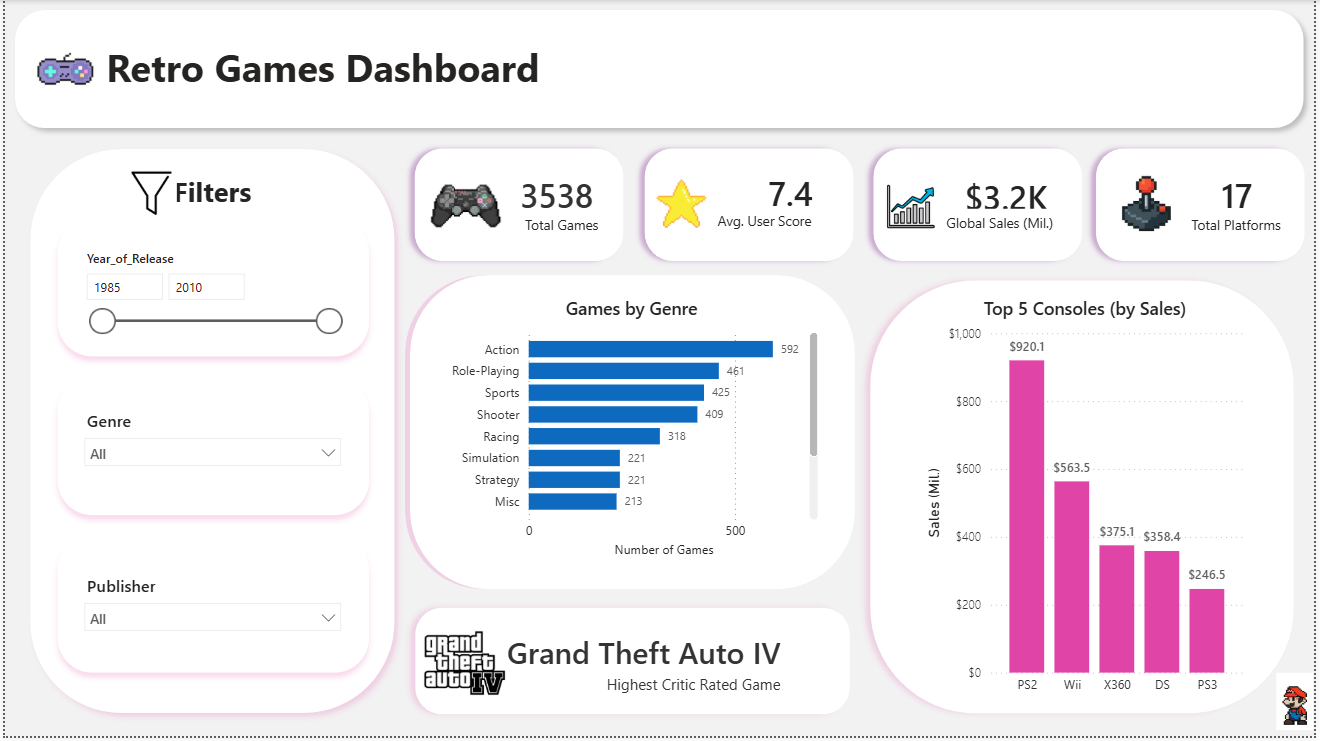

This screenshot's page, from the dashboard's own definition file:
{"tool":"powerbi","page":{"name":"Exec Dashboard","canvas":[1280,720],"ordinal":0},"visuals":[{"type":"group","id":"g1","title":"Header","box":[0,0,1280,135.1],"z":0},{"type":"shape","box":[0,0,1280,135.1],"z":0,"group":"g1"},{"type":"shape","box":[14.5,136.3,376.4,571.9],"z":0,"group":"g12"},{"type":"group","id":"g2","title":"Games","box":[390.9,136.3,223.2,129.1],"z":0,"group":"g6"},{"type":"shape","box":[390.9,136.3,223.2,129.1],"z":0,"group":"g2"},{"type":"group","id":"g3","title":"User Score","box":[615.3,136.3,223.2,129.1],"z":0,"group":"g5"},{"type":"shape","box":[615.3,136.3,223.2,129.1],"z":0,"group":"g3"},{"type":"shape","box":[839.7,136.3,223.2,129.1],"z":0,"group":"g7"},{"type":"group","id":"g4","title":"Games","box":[1056.9,136.3,223.2,129.1],"z":0,"group":"g9"},{"type":"shape","box":[1056.9,136.3,223.2,129.1],"z":0,"group":"g4"},{"type":"shape","box":[390.9,264.2,445.2,317.3],"z":0,"group":"g8"},{"type":"shape","box":[836.1,264.2,434.3,444],"z":0,"group":"g10"},{"type":"shape","box":[390.9,583.9,445.2,124.3],"z":0,"group":"g11"},{"type":"image","box":[14.5,26.5,89.3,80.8],"z":1000,"group":"g1"},{"type":"group","id":"g5","title":"KPIs","box":[390.9,136.3,889.1,130.3],"z":1000},{"type":"group","id":"g6","title":"Game","box":[390.9,136.3,223.2,129.1],"z":1000,"group":"g5"},{"type":"cardVisual","fields":{"Data":["Measure Table.Average User Score"]},"box":[714.2,146,106.2,84.5],"z":1000,"group":"g3"},{"type":"cardVisual","fields":{"Data":["Measure Table.Total Number of Games"]},"box":[472.5,156.9,131.5,66.4],"z":1000,"group":"g2"},{"type":"cardVisual","fields":{"Data":["Measure Table.Number of Platforms"]},"box":[1138.5,156.9,131.5,66.4],"z":1000,"group":"g4"},{"type":"cardVisual","fields":{"Data":["Measure Table.Total Global Sales"]},"box":[909.4,163.9,139.9,54.3],"z":1000,"group":"g7"},{"type":"shape","box":[41,205.1,324.5,154.4],"z":1000,"group":"g12"},{"type":"textbox","box":[503.1,206.3,94.1,29],"z":1000,"group":"g6"},{"type":"textbox","box":[1155.2,206.6,106.2,33.8],"z":1000,"group":"g9"},{"type":"barChart","title":"Games by Genre","fields":{"Category":["Dim_Genre.Genre"],"Y":["Measure Table.Total Number of Games"]},"box":[425.4,289.3,374.8,260.6],"z":1000,"group":"g8"},{"type":"columnChart","title":"Top 5 Consoles (by Sales)","fields":{"Y":["Measure Table.Total Global Sales"],"Category":["Dim_Platform.Platform"]},"box":[895.8,290.3,320.5,398.4],"z":1000,"group":"g10"},{"type":"cardVisual","fields":{"Data":["Measure Table.Highest Critic Rated Game"]},"box":[425.9,598.4,361.9,98.9],"z":1000,"group":"g11"},{"type":"textbox","box":[94.1,35,442.8,72.4],"z":2000,"group":"g1"},{"type":"group","id":"g7","title":"Sales","box":[839.7,136.3,223.2,129.1],"z":2000,"group":"g5"},{"type":"image","box":[407.8,168.9,84.5,65.1],"z":2000,"group":"g2"},{"type":"image","box":[1073.8,168.9,84.5,65.1],"z":2000,"group":"g4"},{"type":"textbox","box":[691.3,202.7,103.8,31.4],"z":2000,"group":"g3"},{"type":"textbox","box":[915.5,205,127.9,31.4],"z":2000,"group":"g7"},{"type":"group","id":"g8","title":"Genre visual","box":[390.9,264.2,445.2,317.3],"z":2000},{"type":"shape","box":[41,359.5,324.5,154.4],"z":2000,"group":"g12"},{"type":"image","box":[407.8,610.4,82,74.8],"z":2000,"group":"g11"},{"type":"group","id":"g9","title":"Game","box":[1056.9,136.3,223.2,129.1],"z":3000,"group":"g5"},{"type":"image","box":[856.4,163.2,59.1,86.9],"z":3000,"group":"g7"},{"type":"image","box":[629.8,167.7,61.5,62.7],"z":3000,"group":"g3"},{"type":"group","id":"g10","title":"Top 5 consoles","box":[836.1,264.2,434.3,444],"z":3000},{"type":"shape","box":[41,513.9,324.5,154.4],"z":3000,"group":"g12"},{"type":"slicer","fields":{"Values":["Dim_Genre.Genre"]},"box":[67.6,395.7,271.4,82],"z":4000,"group":"g12"},{"type":"group","id":"g11","title":"Highest critic","box":[390.9,583.9,445.2,124.3],"z":4000},{"type":"group","id":"g12","title":"Slicer","box":[14.5,136.3,376.4,571.9],"z":5000},{"type":"slicer","fields":{"Values":["Dim_Publisher.Publisher"]},"box":[67.6,557.3,271.4,82],"z":5000,"group":"g12"},{"type":"image","box":[1243.8,653.9,36.2,63.9],"z":5001},{"type":"slicer","fields":{"Values":["Dim_Year.Year_of_Release"]},"box":[67.6,240.1,271.4,95.3],"z":6000,"group":"g12"},{"type":"textbox","box":[153.2,164,100.1,45.8],"z":7000,"group":"g12"},{"type":"image","box":[113.4,162.8,59.1,49.5],"z":8000,"group":"g12"}]}

Visuals, with their boxes in screenshot pixels (x1, y1, x2, y2), scaled from the page's 1280x720 canvas onto the 1320x741 screenshot:
"Header" group: x1=0 y1=0 x2=1319 y2=139
shape: x1=0 y1=0 x2=1319 y2=139
shape: x1=15 y1=140 x2=403 y2=729
"Games" group: x1=403 y1=140 x2=633 y2=273
shape: x1=403 y1=140 x2=633 y2=273
"User Score" group: x1=635 y1=140 x2=865 y2=273
shape: x1=635 y1=140 x2=865 y2=273
shape: x1=866 y1=140 x2=1096 y2=273
"Games" group: x1=1090 y1=140 x2=1319 y2=273
shape: x1=1090 y1=140 x2=1319 y2=273
shape: x1=403 y1=272 x2=862 y2=598
shape: x1=862 y1=272 x2=1310 y2=729
shape: x1=403 y1=601 x2=862 y2=729
image: x1=15 y1=27 x2=107 y2=110
"KPIs" group: x1=403 y1=140 x2=1319 y2=274
"Game" group: x1=403 y1=140 x2=633 y2=273
cardVisual - Measure Table.Average User Score: x1=737 y1=150 x2=846 y2=237
cardVisual - Measure Table.Total Number of Games: x1=487 y1=161 x2=623 y2=230
cardVisual - Measure Table.Number of Platforms: x1=1174 y1=161 x2=1310 y2=230
cardVisual - Measure Table.Total Global Sales: x1=938 y1=169 x2=1082 y2=225
shape: x1=42 y1=211 x2=377 y2=370
textbox: x1=519 y1=212 x2=616 y2=242
textbox: x1=1191 y1=213 x2=1301 y2=247
"Games by Genre" barChart: x1=439 y1=298 x2=825 y2=566
"Top 5 Consoles (by Sales)" columnChart: x1=924 y1=299 x2=1254 y2=709
cardVisual - Measure Table.Highest Critic Rated Game: x1=439 y1=616 x2=812 y2=718
textbox: x1=97 y1=36 x2=554 y2=111
"Sales" group: x1=866 y1=140 x2=1096 y2=273
image: x1=421 y1=174 x2=508 y2=241
image: x1=1107 y1=174 x2=1194 y2=241
textbox: x1=713 y1=209 x2=820 y2=241
textbox: x1=944 y1=211 x2=1076 y2=243
"Genre visual" group: x1=403 y1=272 x2=862 y2=598
shape: x1=42 y1=370 x2=377 y2=529
image: x1=421 y1=628 x2=505 y2=705
"Game" group: x1=1090 y1=140 x2=1319 y2=273
image: x1=883 y1=168 x2=944 y2=257
image: x1=649 y1=173 x2=713 y2=237
"Top 5 consoles" group: x1=862 y1=272 x2=1310 y2=729
shape: x1=42 y1=529 x2=377 y2=688
slicer - Dim_Genre.Genre: x1=70 y1=407 x2=350 y2=492
"Highest critic" group: x1=403 y1=601 x2=862 y2=729
"Slicer" group: x1=15 y1=140 x2=403 y2=729
slicer - Dim_Publisher.Publisher: x1=70 y1=574 x2=350 y2=658
image: x1=1283 y1=673 x2=1319 y2=739
slicer - Dim_Year.Year_of_Release: x1=70 y1=247 x2=350 y2=345
textbox: x1=158 y1=169 x2=261 y2=216
image: x1=117 y1=168 x2=178 y2=218
